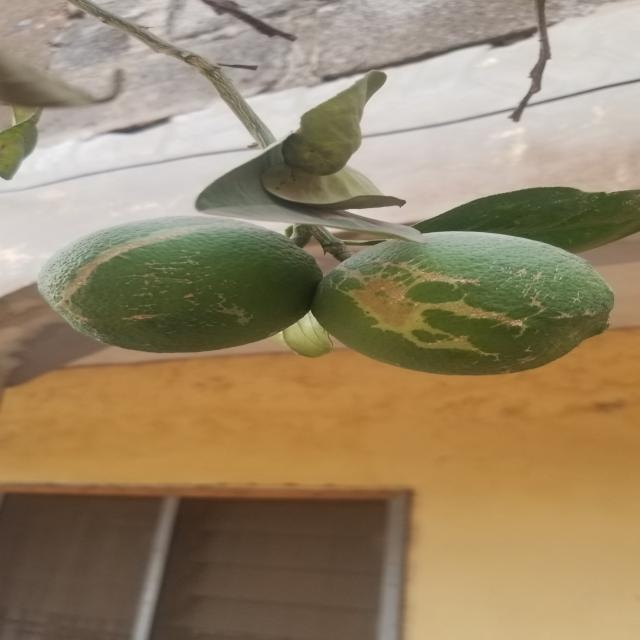agrume: (307, 232, 604, 384), (46, 214, 307, 357)
